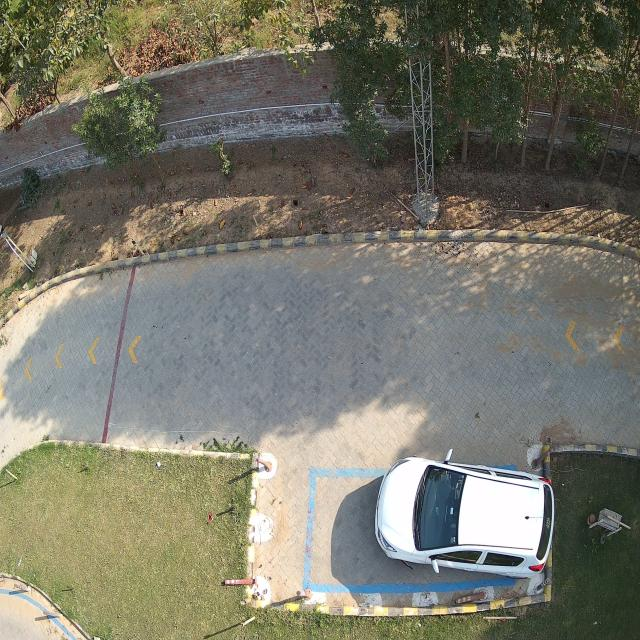car: (371, 452, 556, 576)
